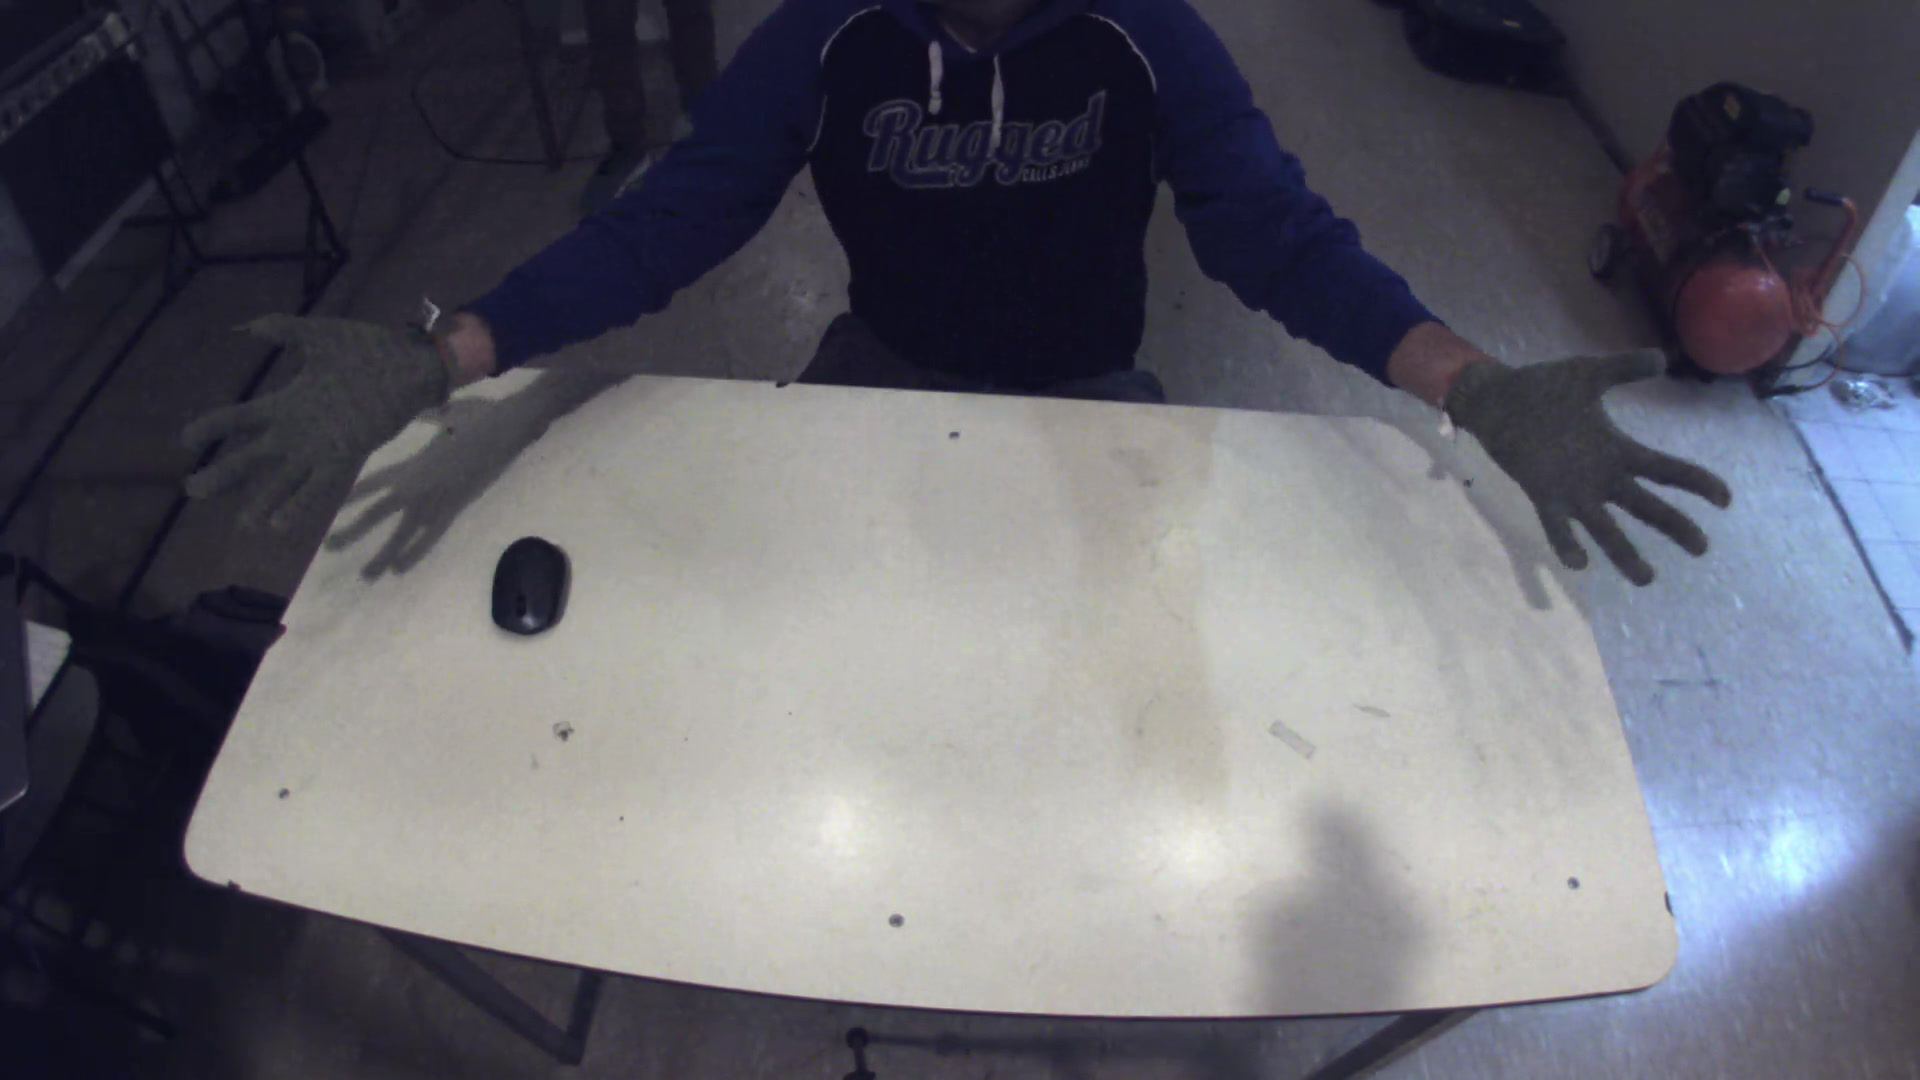hand: (152, 291, 473, 550), (1447, 334, 1749, 593)
